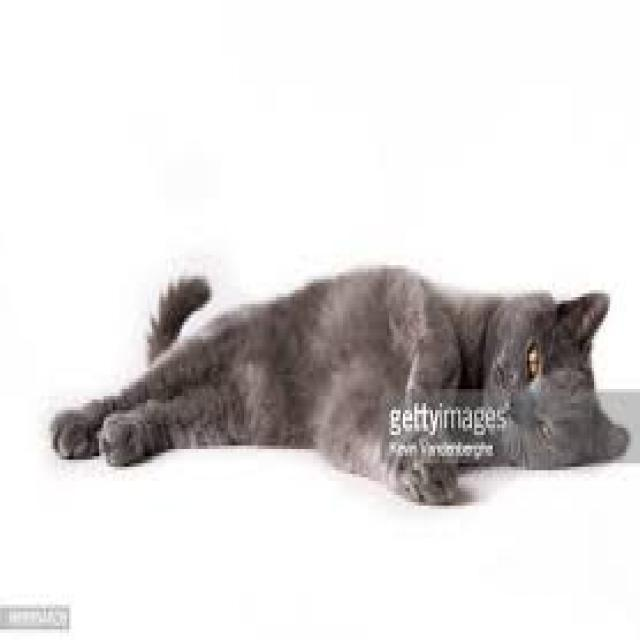Cat: (42, 265, 630, 514)
